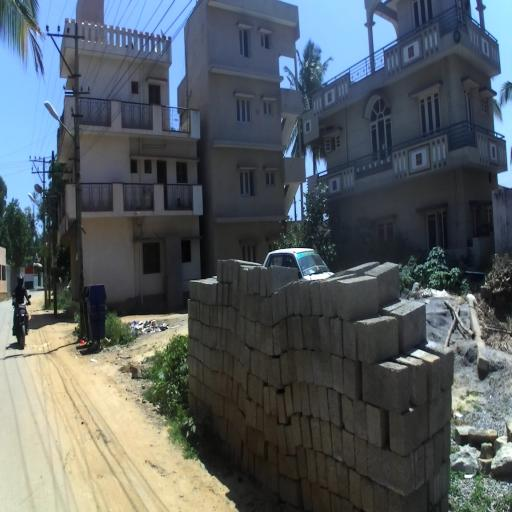street_light_0: (44, 101, 81, 167), (27, 192, 46, 223), (34, 184, 54, 213)
